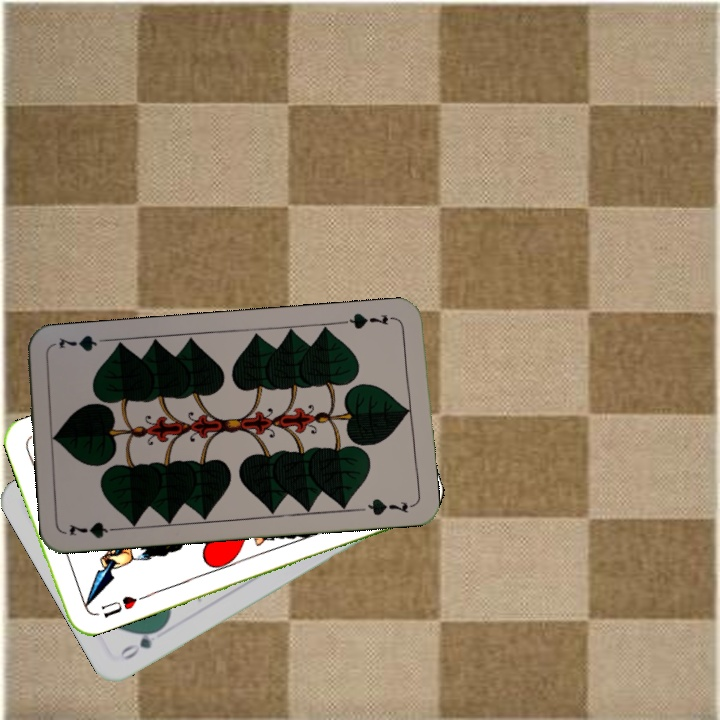G7: (65, 518, 124, 541), (339, 309, 399, 331)
GO: (116, 622, 166, 663)
HU: (98, 592, 146, 620)
